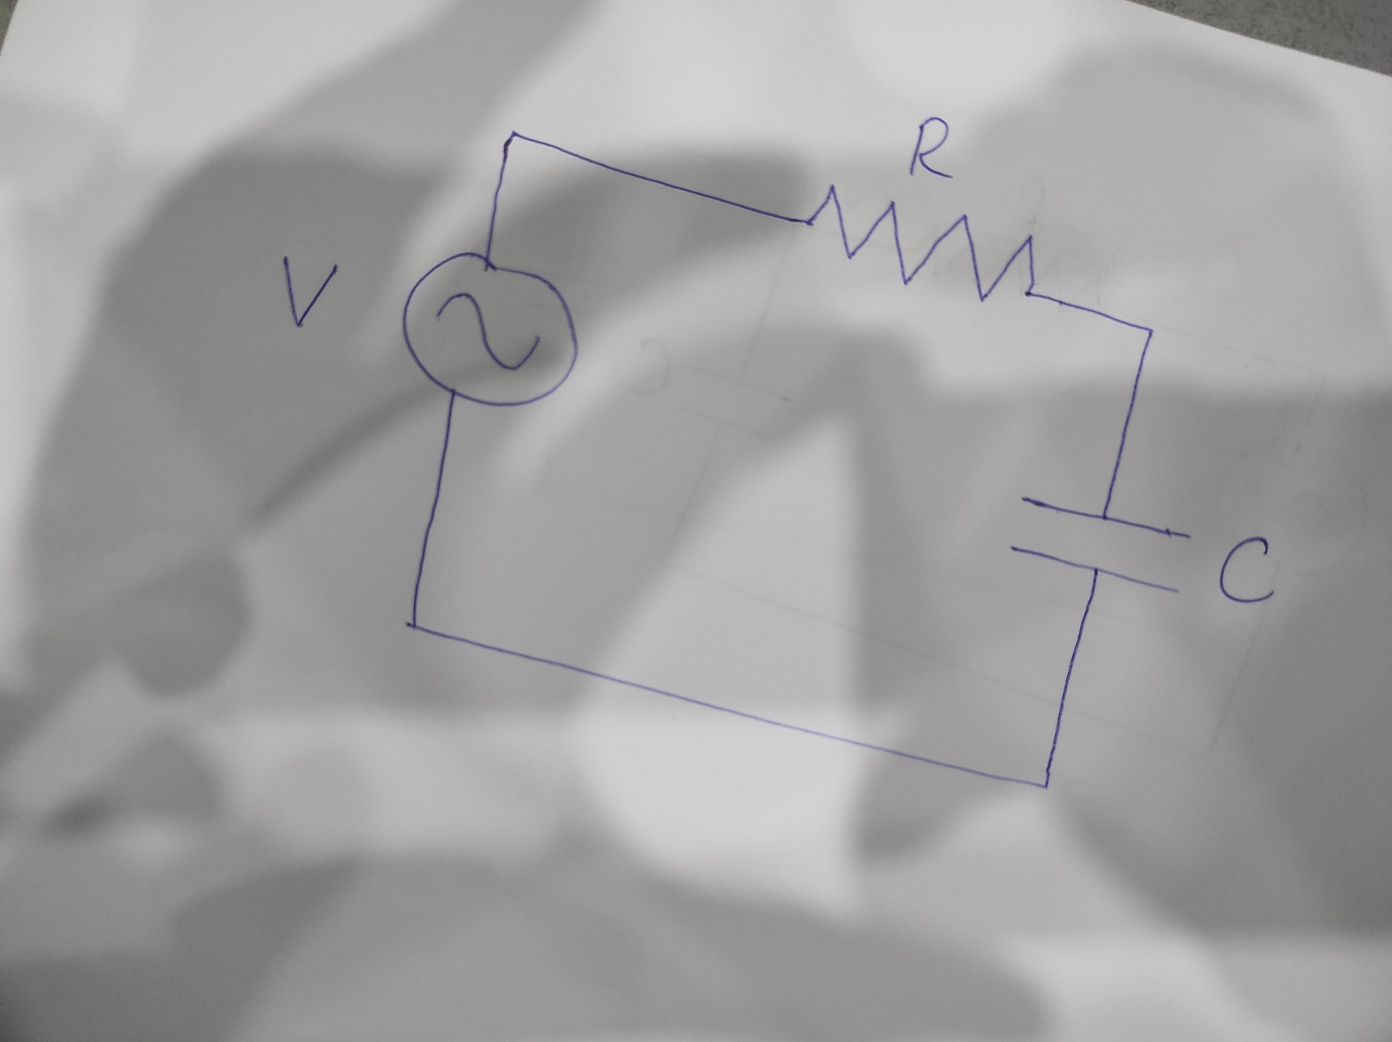capacitor.unpolarized: (1006, 491, 1195, 597)
junction: (495, 121, 529, 154), (395, 610, 427, 640), (1137, 319, 1160, 344), (1033, 775, 1056, 797)
resistor: (797, 182, 1039, 308)
text: (280, 253, 341, 329), (1215, 534, 1278, 605), (904, 115, 960, 182)
voltage.dc_ac: (397, 247, 584, 410)
